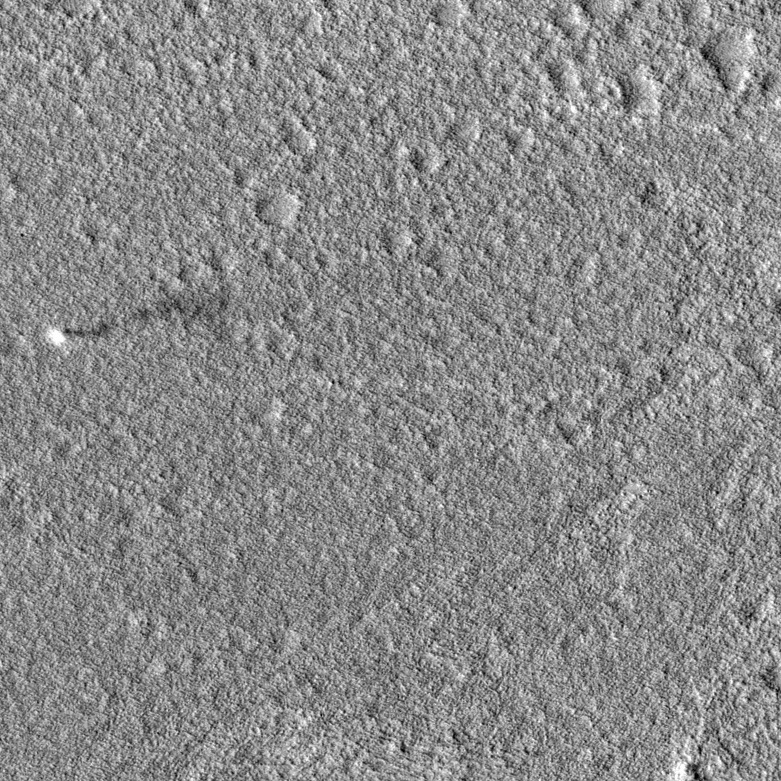dust_devil: (47, 287, 233, 351)
